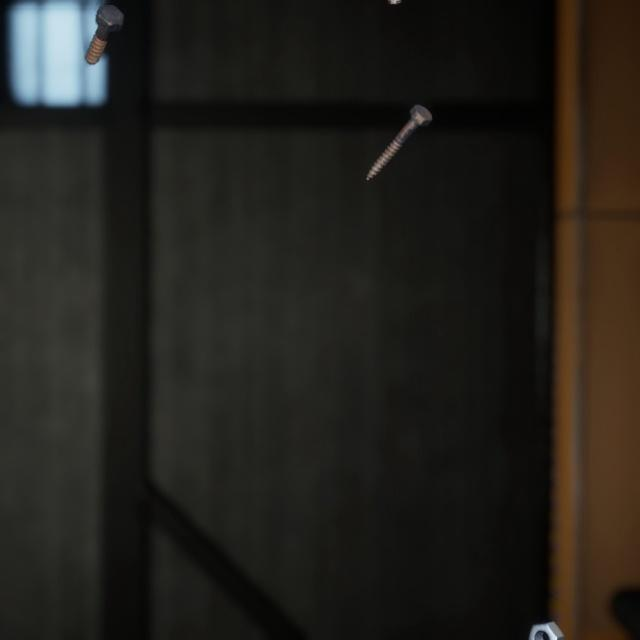bolt: (362, 88, 436, 172), (80, 0, 128, 60)
nut: (523, 593, 568, 636)
